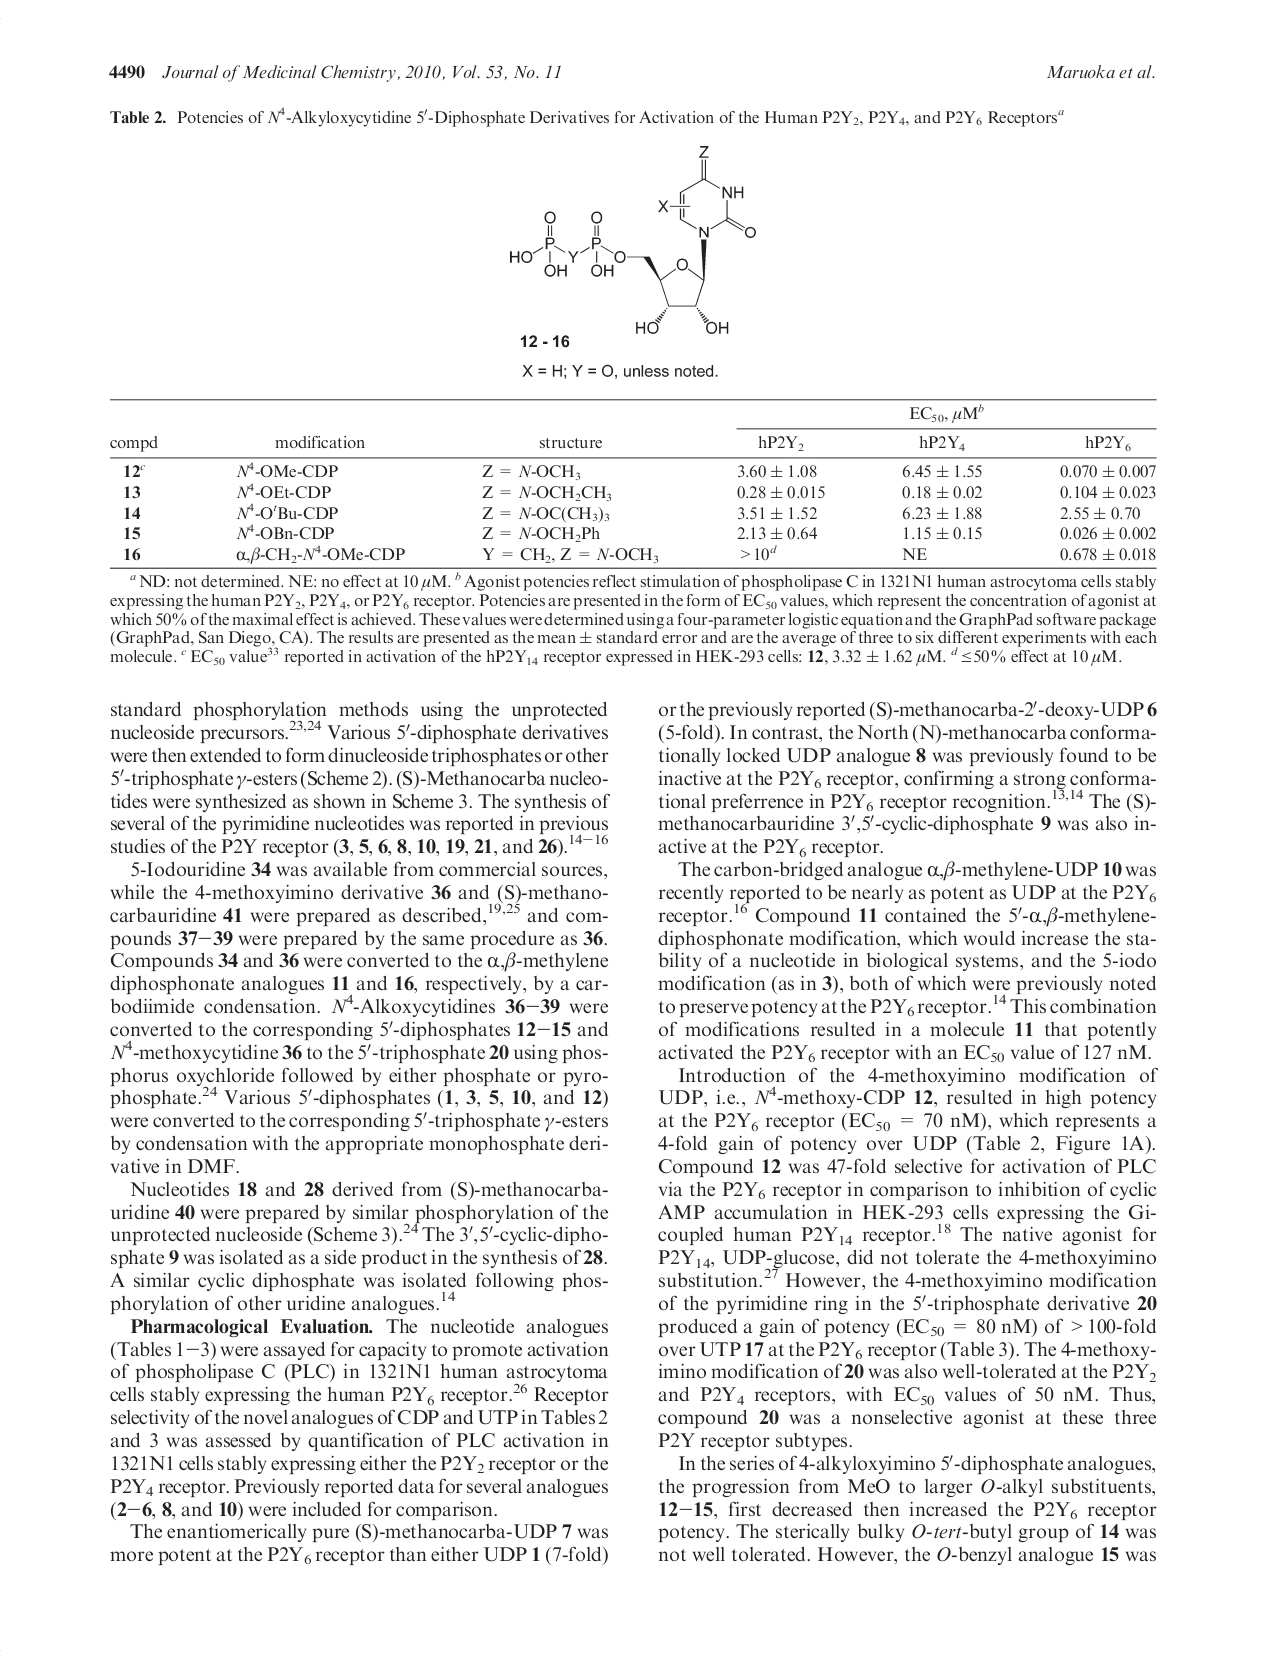exist_molecular: (509, 144, 761, 339)
